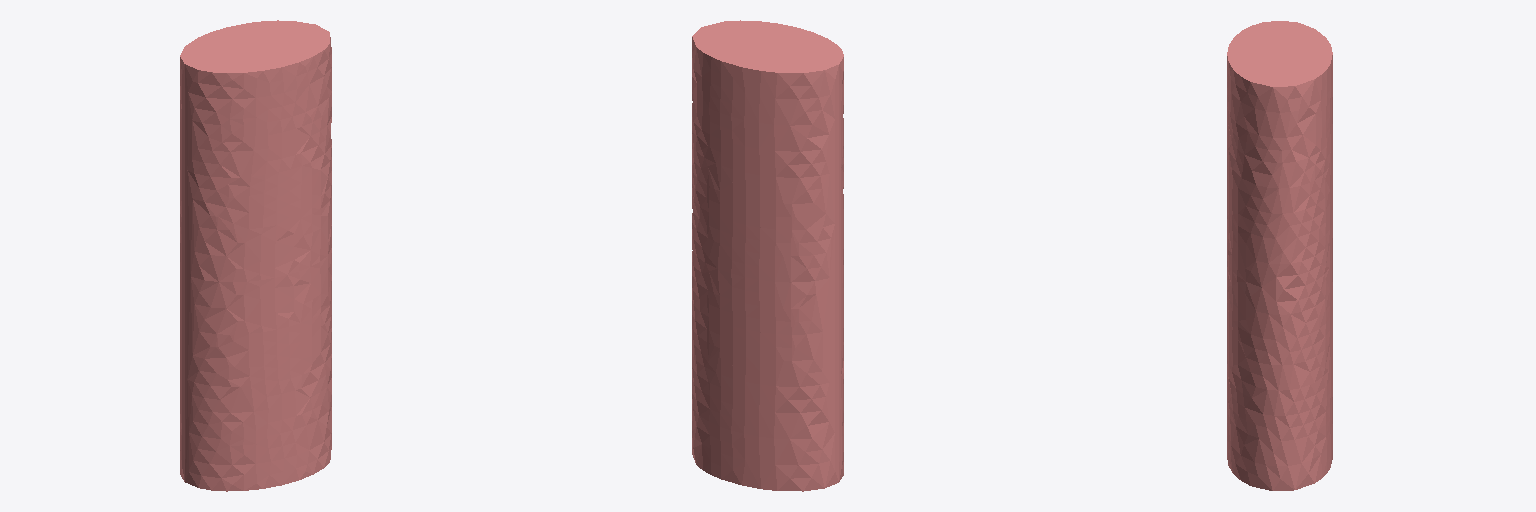
robot.urdf — Large_Long_Oval_JeansRed:
<?xml version="1.0"?>
<robot name="Large_Long_Oval_JeansRed">
    <link name="Large_Long_Oval_JeansRed">
        <visual>
            <geometry>
                <mesh filename="../mesh/factory_insertion/Large_Long_Oval_JeansRed.obj" scale="0.001 0.001 0.001"/>
            </geometry>
            <material name="JeansRed">
              <color rgba="0.91 0.6 0.6 0"/>
            </material>
        </visual>
        <collision>
            <geometry>
                <mesh filename="../mesh/factory_insertion/Large_Long_Oval_JeansRed.obj" scale="0.001 0.001 0.001"/>
            </geometry>
            <sdf resolution="512"/>
        </collision>
    </link>
</robot>

--- Render facts (derived) ---
Views: 3 orthographic renders of the robot side by side, from view 1: azimuth 30°, elevation 25°; view 2: azimuth 150°, elevation 25°; view 3: azimuth 270°, elevation 25°.
Model Large_Long_Oval_JeansRed with 1 links and 0 joints (none), rooted at Large_Long_Oval_JeansRed, posed every joint at zero.
Links seen in each view (by area): view 1: Large_Long_Oval_JeansRed; view 2: Large_Long_Oval_JeansRed; view 3: Large_Long_Oval_JeansRed.
Boxes of the visible links, bbox=[...] form: Large_Long_Oval_JeansRed: bbox=[180, 20, 331, 491]; Large_Long_Oval_JeansRed: bbox=[692, 20, 843, 491]; Large_Long_Oval_JeansRed: bbox=[1227, 21, 1332, 490].
Size in the robot's own frame: 0.0534 by 0.0356 by 0.15 metres.
1 mesh visuals loaded from 1 distinct referenced files (1 OBJ).
